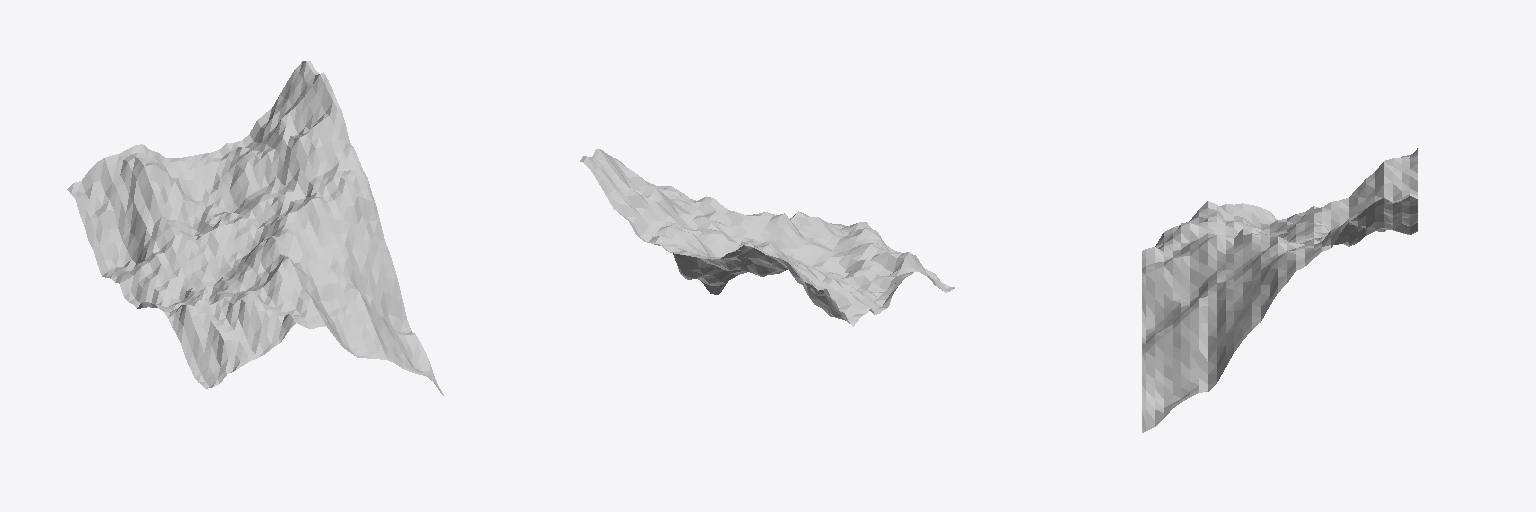
File: terrain_1_1.obj
3 renders of one model, left to right at view 1: azimuth 30°, elevation 25°; view 2: azimuth 150°, elevation 25°; view 3: azimuth 270°, elevation 25°, orthographic.
Parts seen in each view (by area): view 1: terrain_1_1_Plane.050; view 2: terrain_1_1_Plane.050; view 3: terrain_1_1_Plane.050.
Boxes of the visible parts, box(x1,y1,x2,y2) form: terrain_1_1_Plane.050: box(67, 61, 443, 395); terrain_1_1_Plane.050: box(580, 149, 954, 326); terrain_1_1_Plane.050: box(1142, 148, 1417, 432).
Bounding box in the file's own units: 32 × 30.45 × 32.